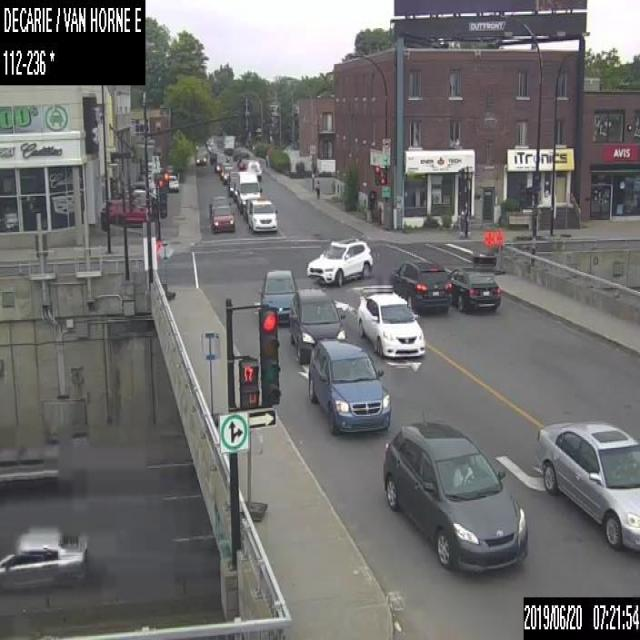construction: (239, 427, 267, 522), (200, 329, 221, 427), (157, 238, 175, 298), (492, 229, 504, 275), (482, 229, 492, 273)
pedestrian: (314, 178, 319, 198)
vehicle: (382, 421, 527, 572), (535, 418, 639, 554), (307, 337, 390, 434), (0, 521, 87, 591), (356, 290, 425, 358), (289, 287, 345, 363), (305, 236, 373, 285), (389, 260, 451, 312), (449, 266, 500, 314), (258, 268, 298, 325), (102, 199, 146, 226), (235, 171, 261, 212), (248, 198, 276, 233), (209, 202, 234, 230), (124, 188, 156, 204), (209, 195, 230, 216), (243, 197, 262, 220), (247, 159, 260, 180), (223, 134, 235, 154), (219, 161, 232, 179), (167, 174, 178, 192), (214, 155, 226, 171), (226, 176, 236, 195), (223, 165, 233, 183), (195, 148, 206, 164), (236, 150, 248, 161), (238, 158, 248, 169), (231, 148, 239, 160), (227, 170, 236, 180), (232, 179, 236, 200)
